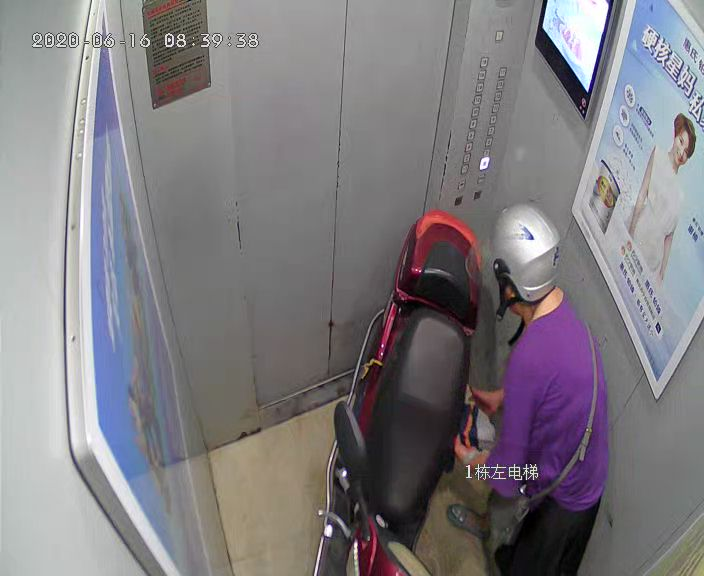Electric-bicycle: (317, 208, 483, 576)
